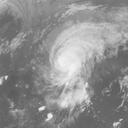cyclone: (47, 34, 87, 86)
